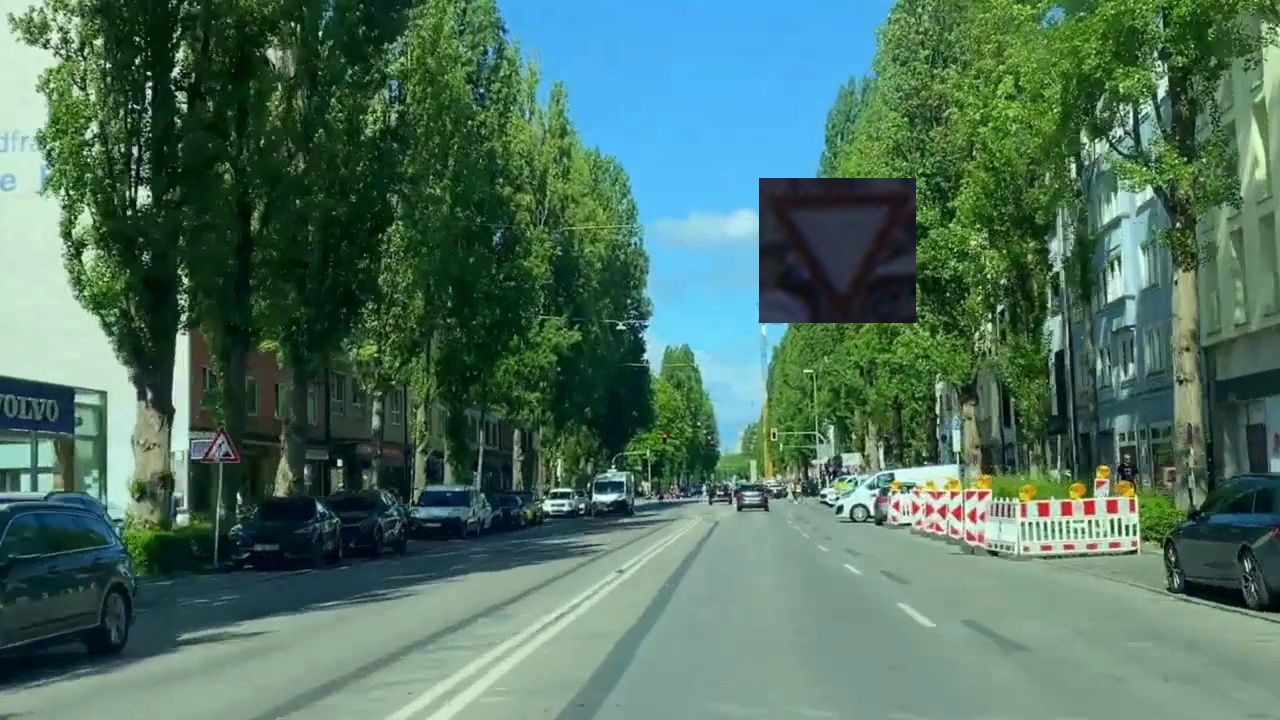Yield: (759, 178, 916, 323)
